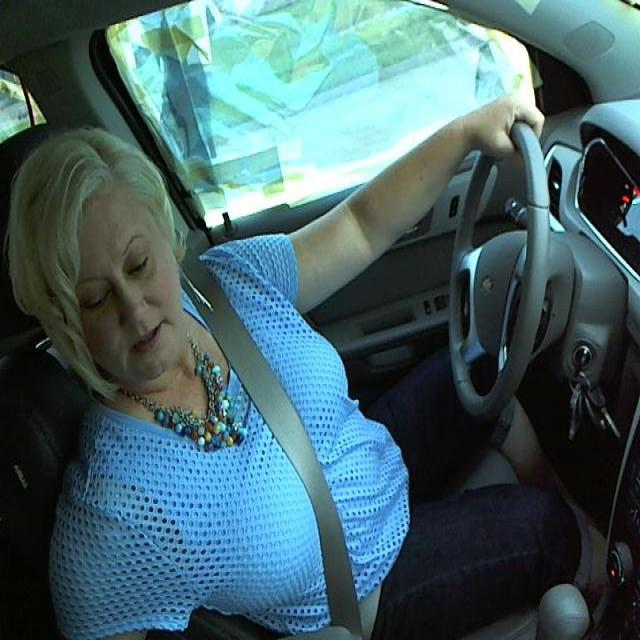seatbelt: (195, 325, 395, 639)
